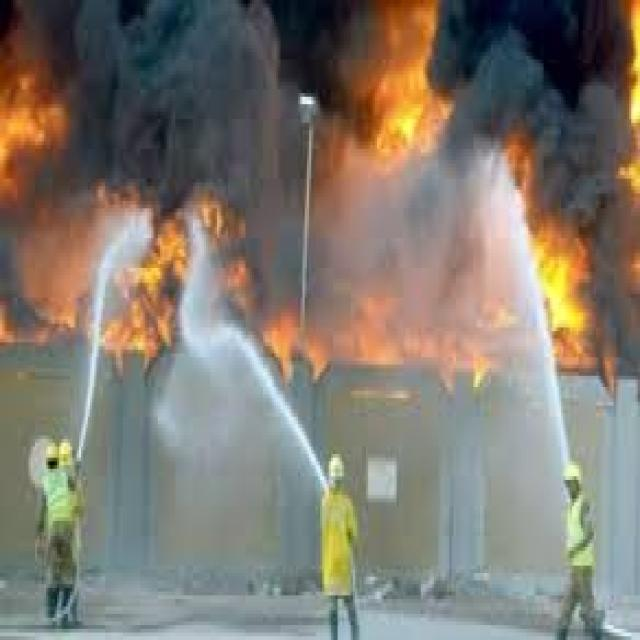Fire: (89, 195, 257, 357), (0, 20, 73, 222), (363, 9, 448, 170)
Smoke: (102, 11, 256, 176)
